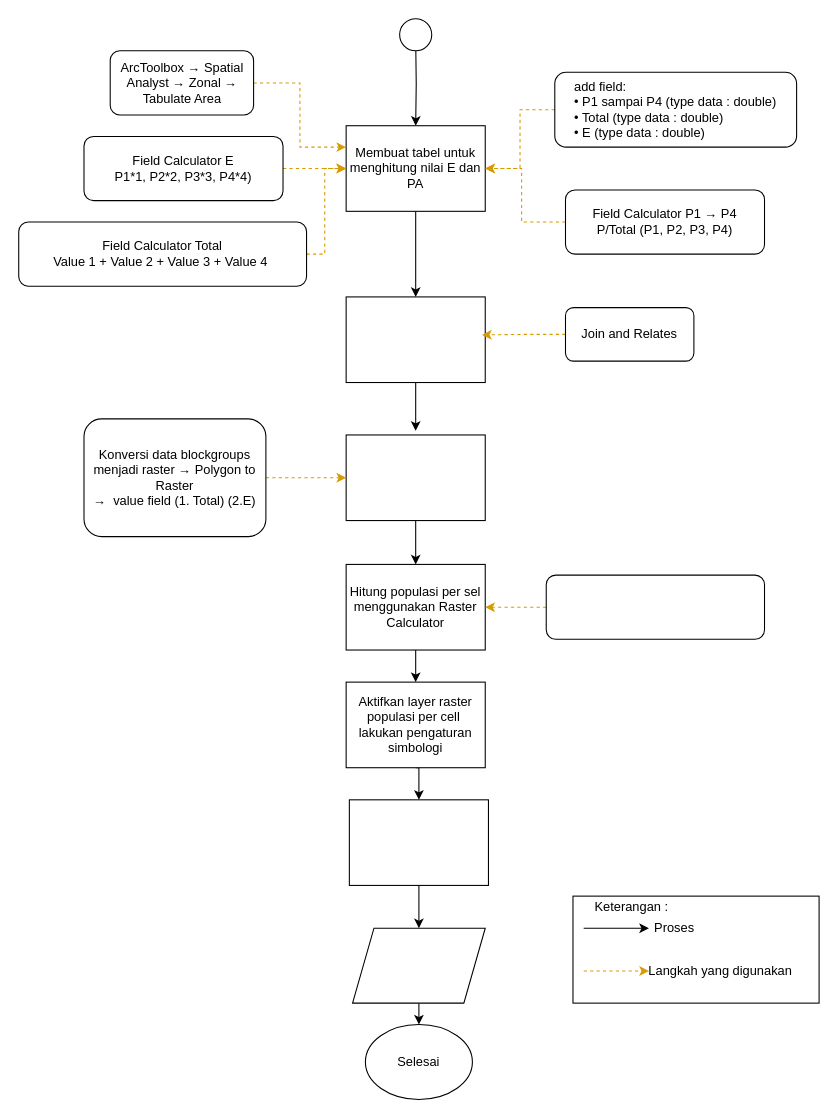
Image size: 838x1118. Some labels were removed from this diagram. The centre of each missing label's shape, as x and y in pixels:
"density * kec_raster * 119.695 * 119.695 / (E*Total_density)" goes at (x=655, y=606).
"Konversi data kecamatan_kp menjadi raster" goes at (x=415, y=477).
"Layouting Peta" goes at (x=418, y=842).
"Menginput data tabular yang berisi nilai P dan E pada layer Blockgroups" goes at (x=415, y=339).
"Peta Dasymetric Jumlah Penduduk" goes at (x=418, y=965).
